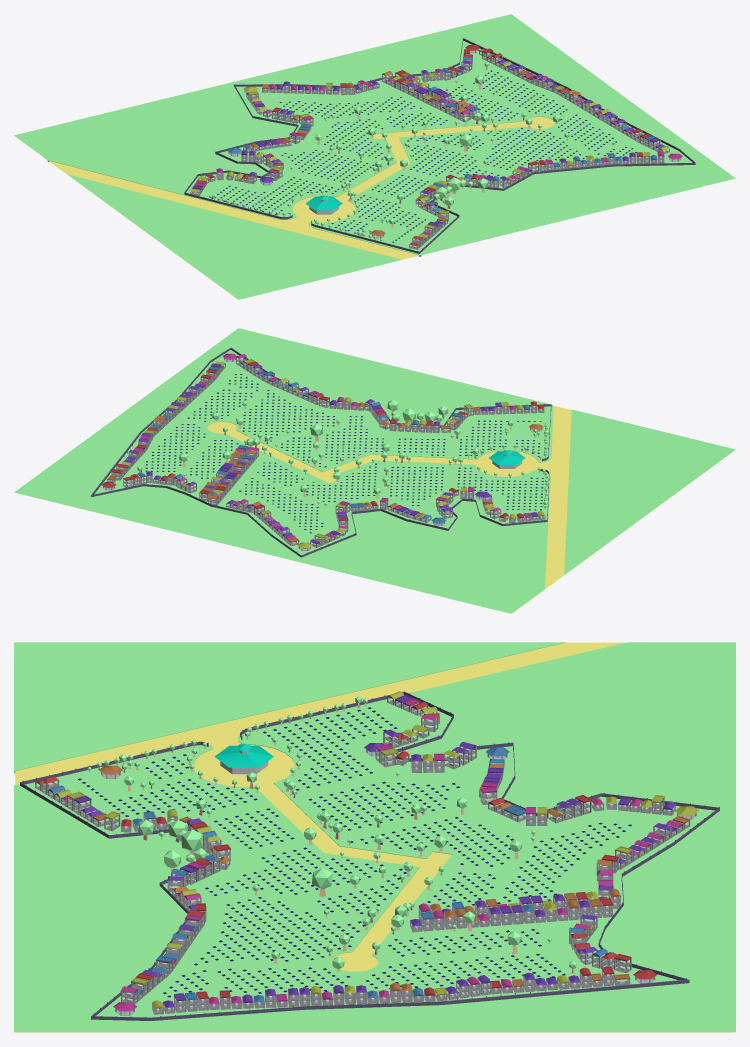
File: my-3dmap.glb
3 views of the same model, one above another, from view 1: azimuth 30°, elevation 25°; view 2: azimuth 150°, elevation 25°; view 3: azimuth 270°, elevation 25° (orthographic). The views are drawn at different scales.
Parts seen in each view (by area): view 1: 3dMap; view 2: 3dMap; view 3: 3dMap.
Part boxes in pixels (x1=…): 3dMap: x1=14, y1=14, x2=735, y2=299; 3dMap: x1=14, y1=328, x2=735, y2=613; 3dMap: x1=14, y1=642, x2=735, y2=1032.
Size of the model in its own units: 308 by 13.38 by 241.
4 materials, 4 textured.
